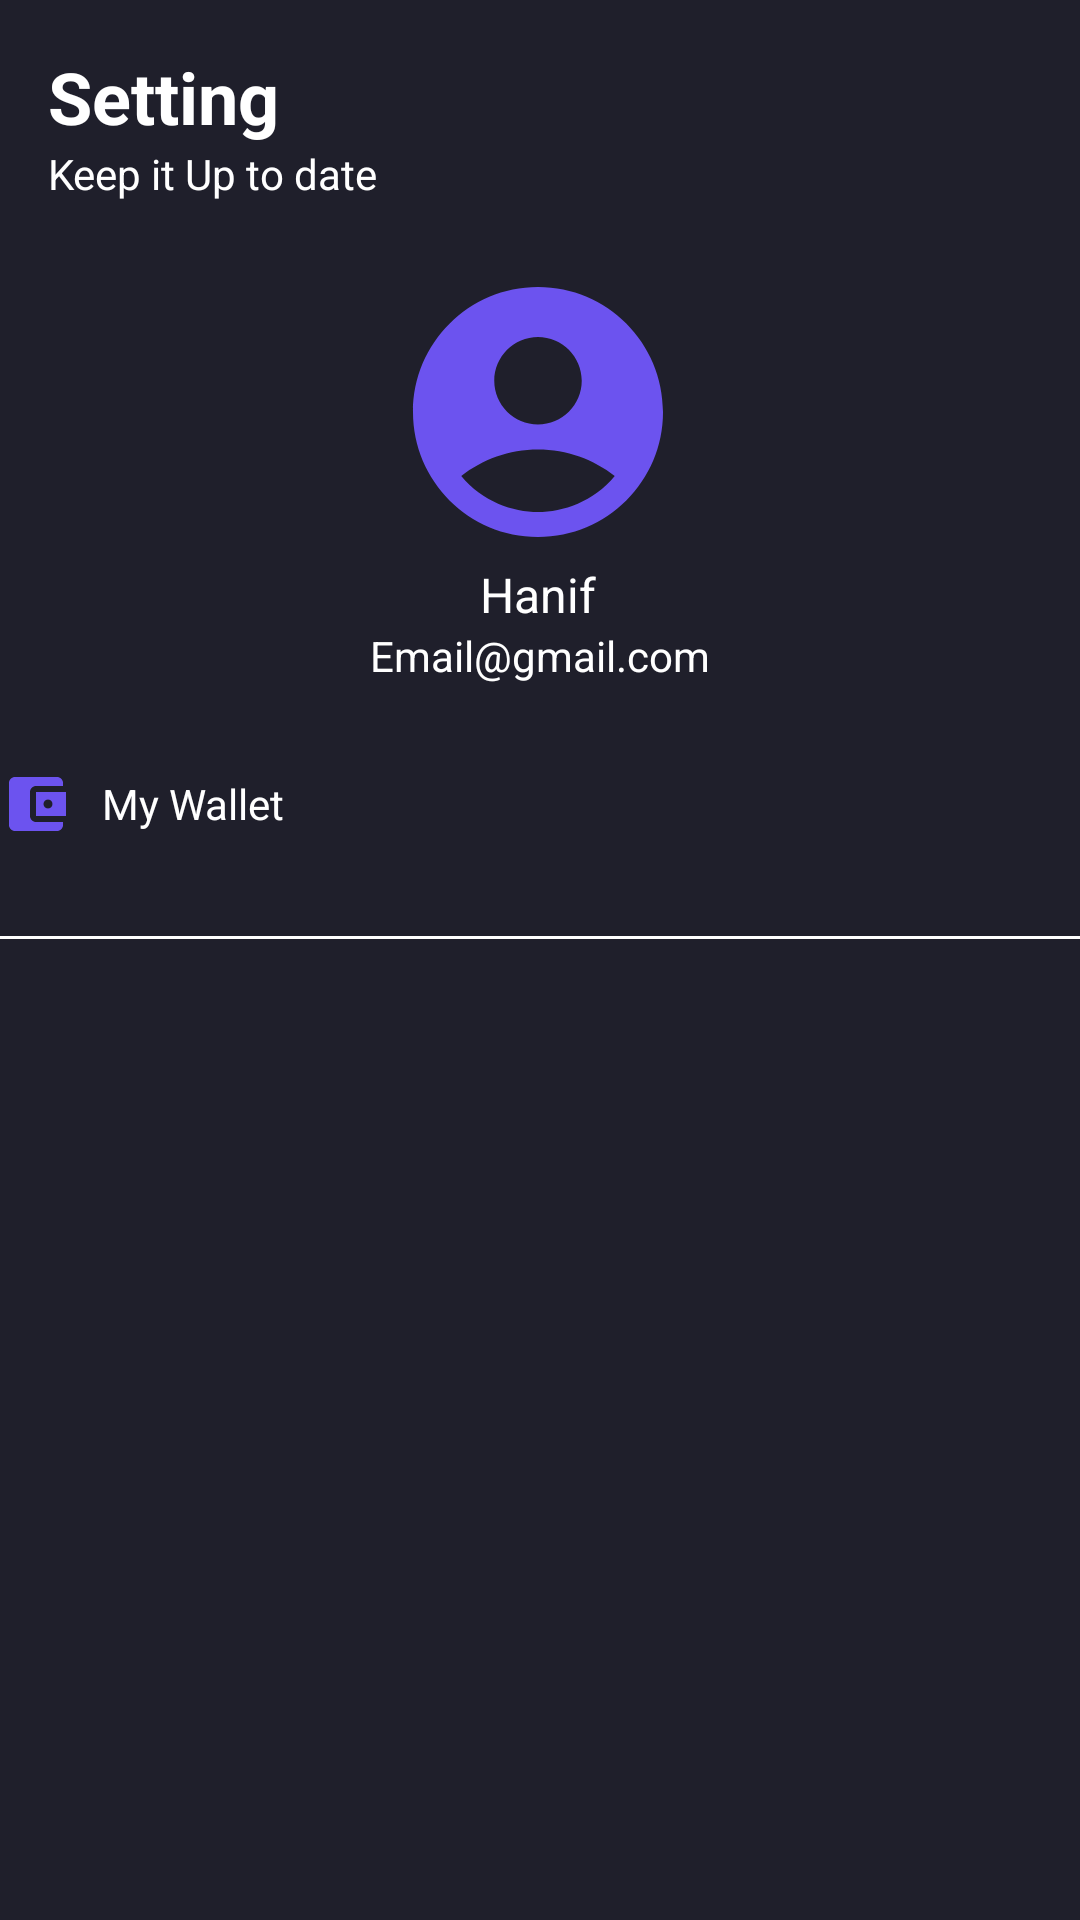

Icon click points for this 1080px×1920px phone screenshot, format point (x, y):
account circle: point (538, 412)
